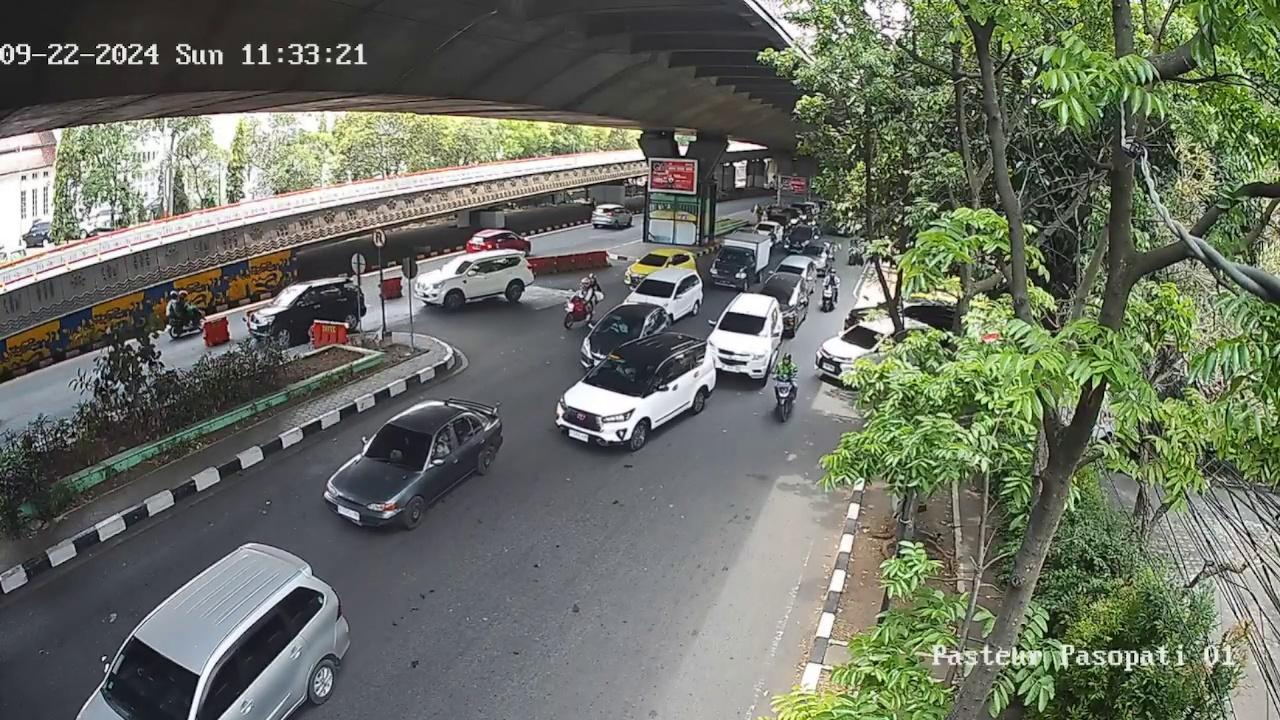pakai: (613, 360, 639, 384), (608, 320, 627, 333)
windshield: (103, 637, 197, 720), (362, 422, 437, 471), (588, 354, 661, 393), (592, 310, 644, 338), (717, 313, 771, 337), (840, 324, 882, 349), (634, 276, 677, 300), (714, 249, 749, 267), (635, 253, 668, 267)
